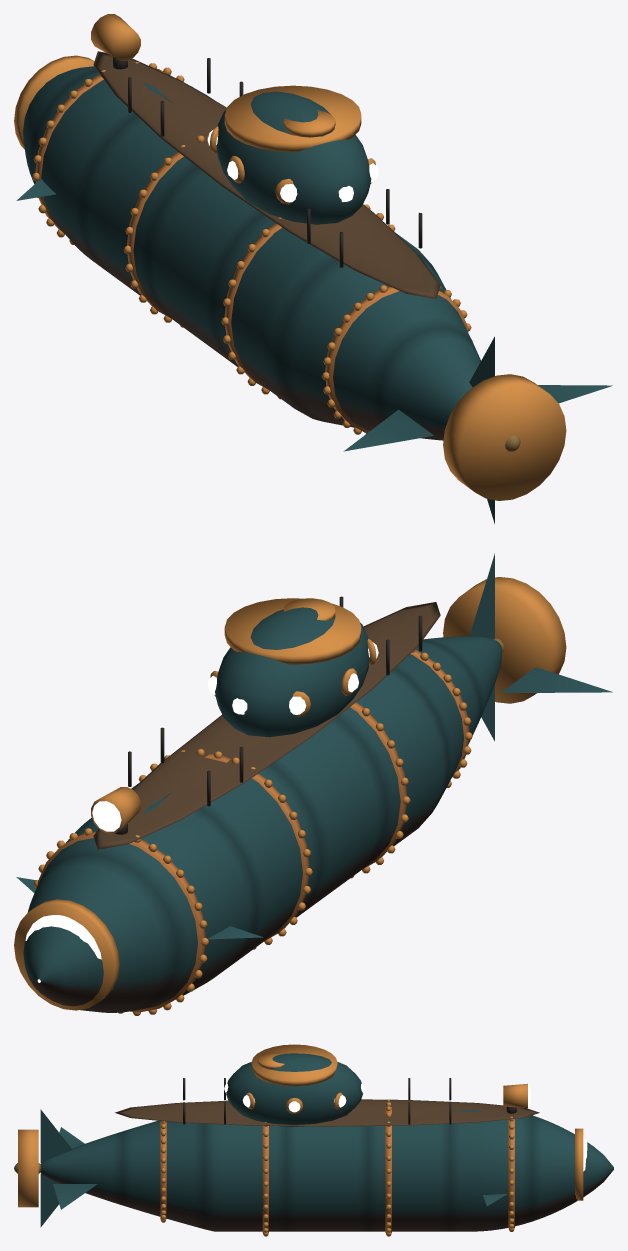
Rendered from submarino.glb.
The picture shows the model from 3 angles, top to bottom: view 1: azimuth 30°, elevation 25°; view 2: azimuth 150°, elevation 25°; view 3: azimuth 270°, elevation 25°; orthographic projection. The views are drawn at different scales.
Visible parts, largest first — view 1: Casco, Latao, Ferro, Vidro; view 2: Casco, Latao, Vidro, Ferro; view 3: Casco, Latao, Ferro, Vidro.
Part boxes in pixels (x1,y1,x2,y2): Casco: [16, 51, 612, 523]; Latao: [14, 14, 566, 500]; Ferro: [113, 57, 520, 451]; Vidro: [207, 129, 378, 202]; Casco: [16, 553, 612, 1012]; Latao: [14, 577, 566, 1015]; Vidro: [25, 642, 378, 982]; Ferro: [115, 596, 504, 834]; Casco: [40, 1053, 613, 1231]; Latao: [18, 1044, 583, 1236]; Ferro: [14, 1078, 516, 1173]; Vidro: [224, 1083, 587, 1171].
Bounding box in the file's own units: 4.8 × 4.67 × 14.65.
